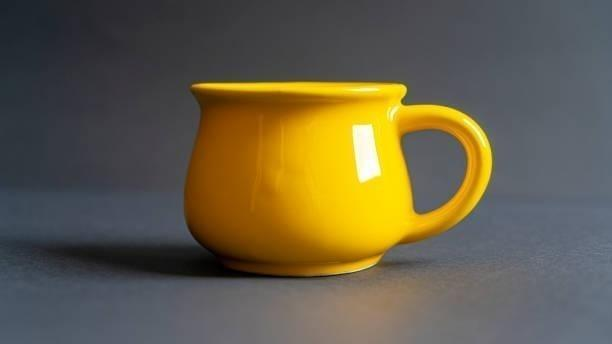cup-handle: (181, 78, 494, 279)
